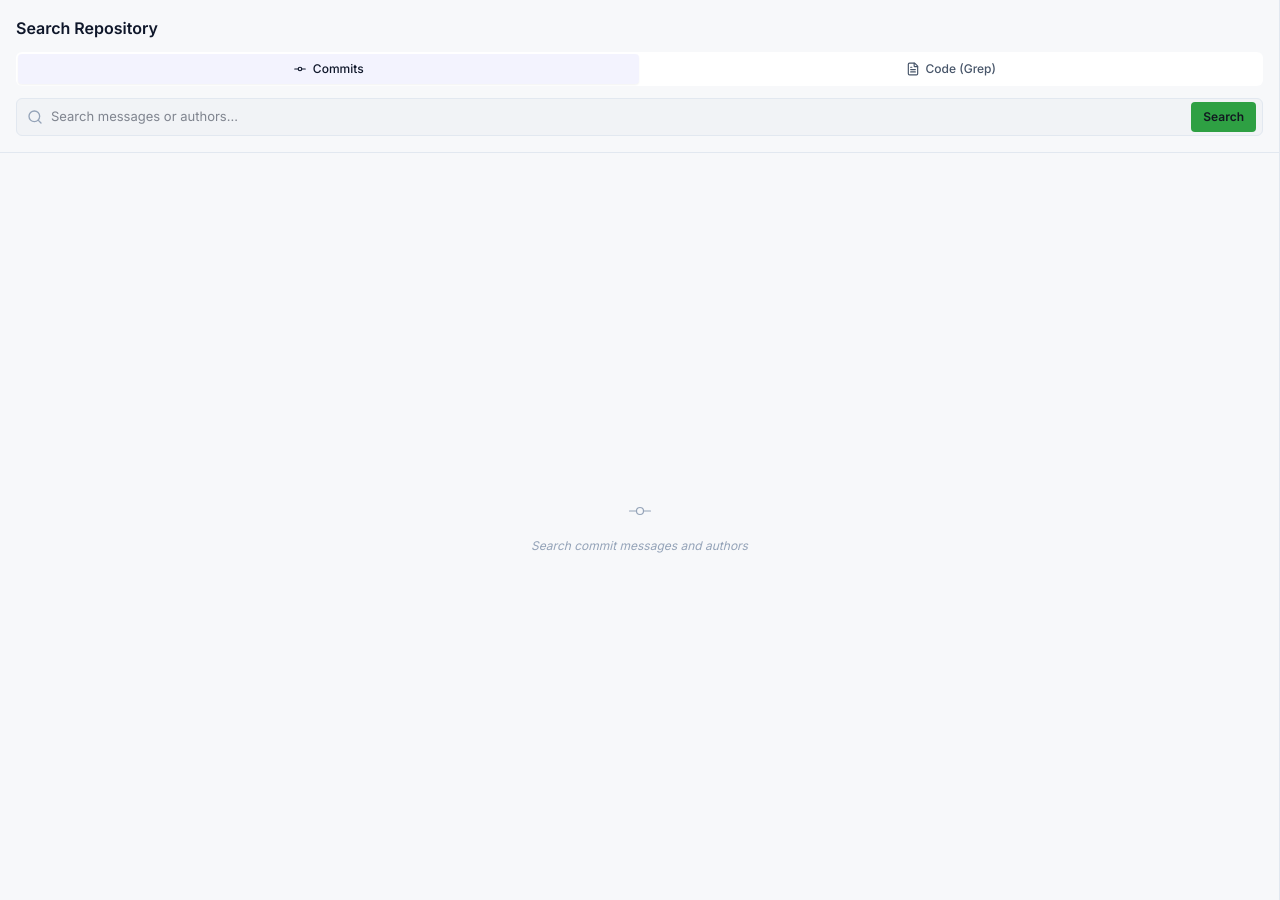
Test: RepoSearch › says so when a search finds nothing
Step 1. Type "nothing" into the field with placeholder "Search messages or authors..." → (617, 117), box [43,101,1191,132]
Then press Enter
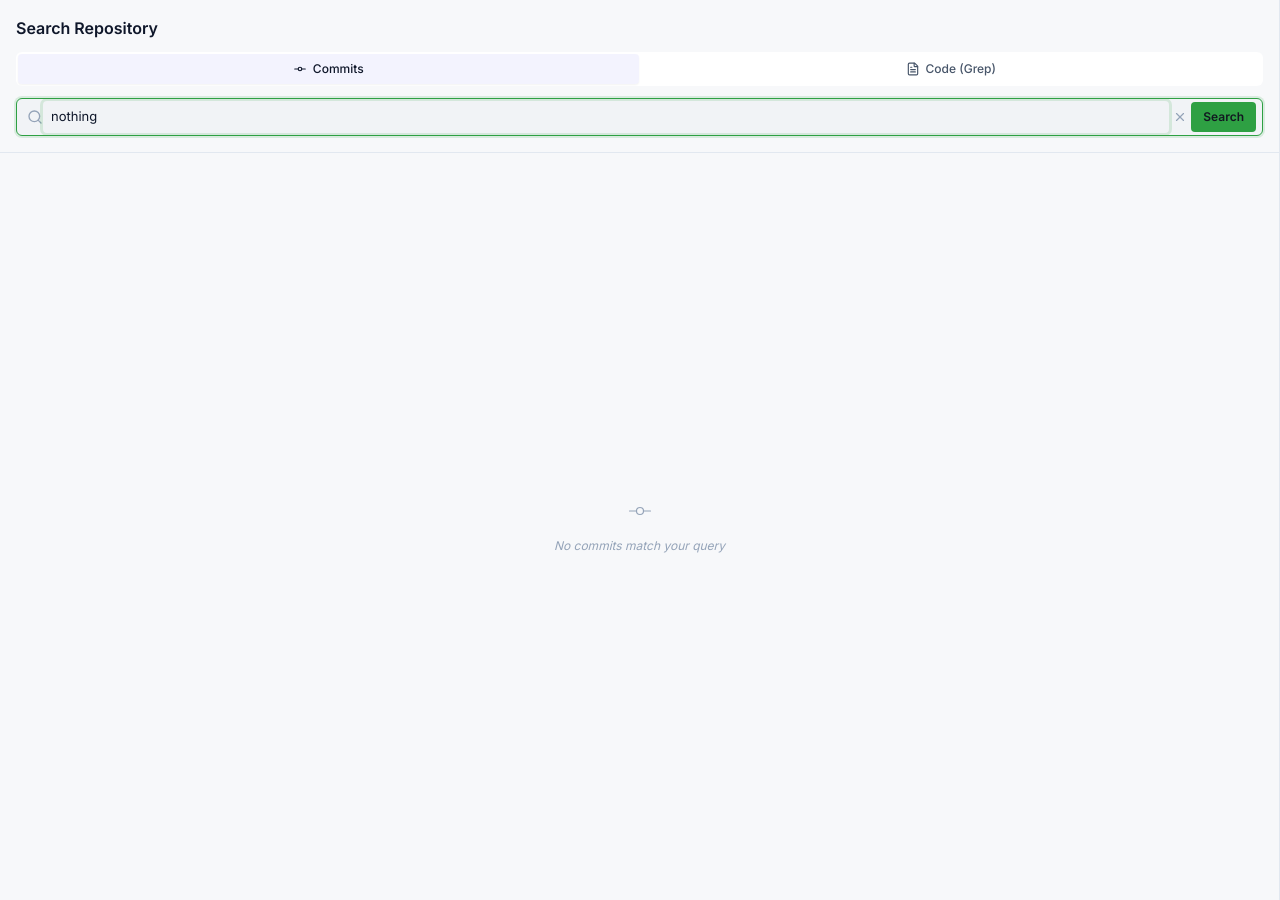
expect the text "No commits match your query" is shown: met, box [554,537,725,555]
